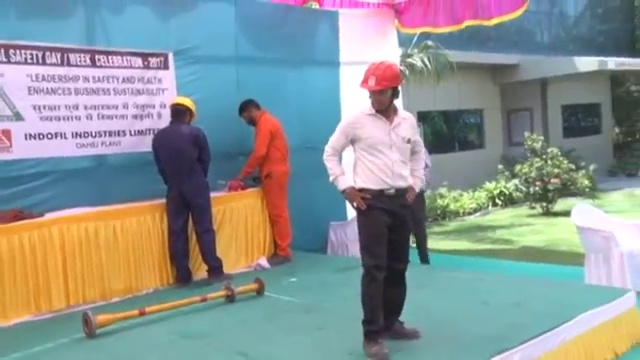helmet: (357, 59, 406, 90), (168, 94, 197, 118)
helmet_off: (235, 95, 264, 128)
helmet_on: (357, 59, 408, 121), (166, 91, 198, 130)
person: (322, 57, 421, 360), (153, 92, 233, 280), (234, 93, 294, 264), (411, 139, 434, 266)
